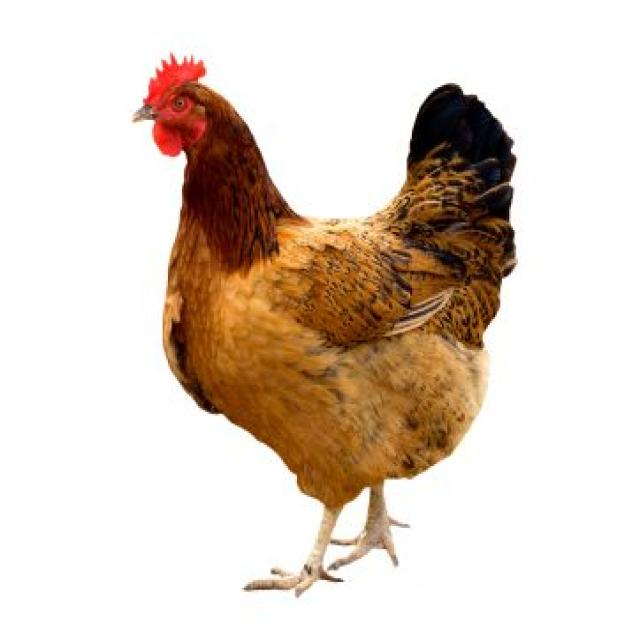Chicken: (115, 42, 519, 618)
